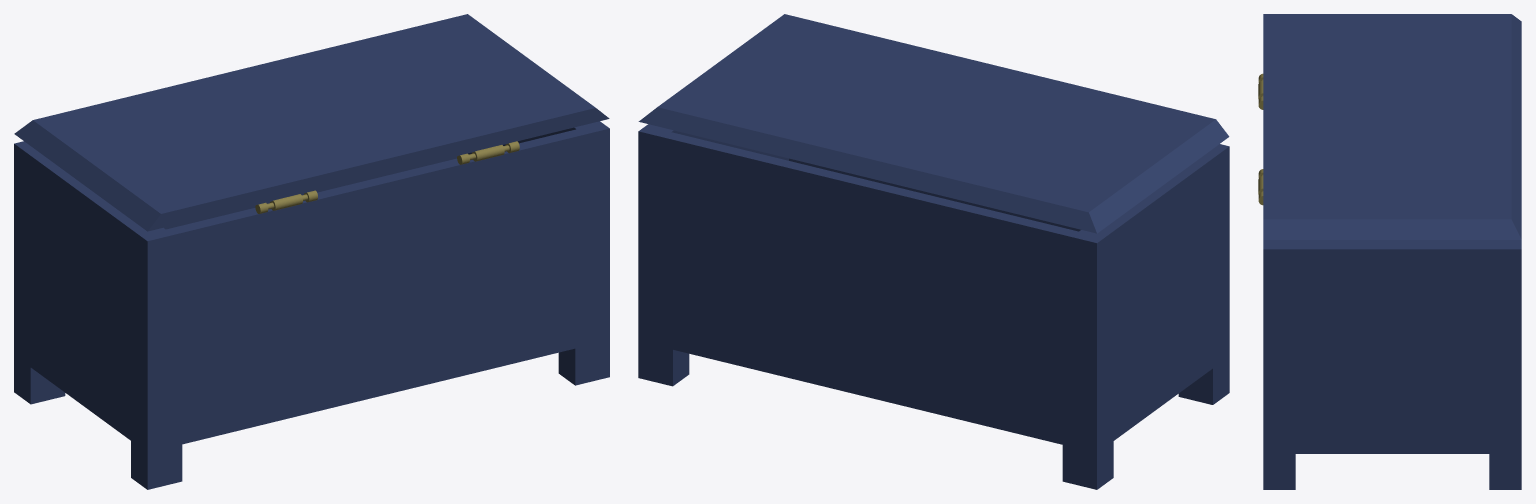
The model's file is baul.fbx.
3 views of the same model, side by side, from view 1: azimuth 30°, elevation 25°; view 2: azimuth 150°, elevation 25°; view 3: azimuth 270°, elevation 25° (orthographic). The views are drawn at different scales.
Parts seen in each view (by area): view 1: Cubo; view 2: Cubo; view 3: Cubo.
Boxes of the visible parts, x1,y1,x2,y2 form: Cubo: (14, 14, 609, 489); Cubo: (638, 14, 1229, 489); Cubo: (1258, 14, 1521, 489).
Bounding box in the file's own units: 400 × 225 × 204.
